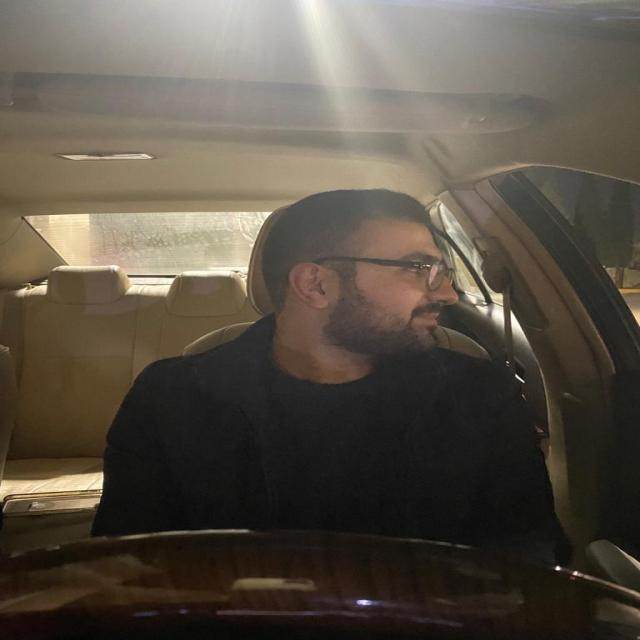LeftRight: (254, 180, 465, 376)
